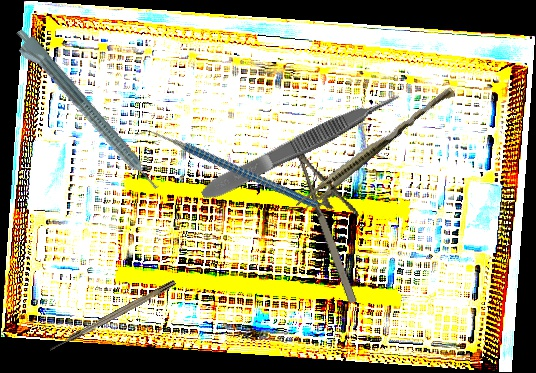Chopper: (132, 79, 320, 261)
Handpiece: (6, 25, 163, 200)
Hook Surgical: (48, 279, 177, 353)
Needle Holder: (291, 131, 385, 306)
Tissue Forceps: (197, 87, 405, 205), (294, 80, 456, 217)
